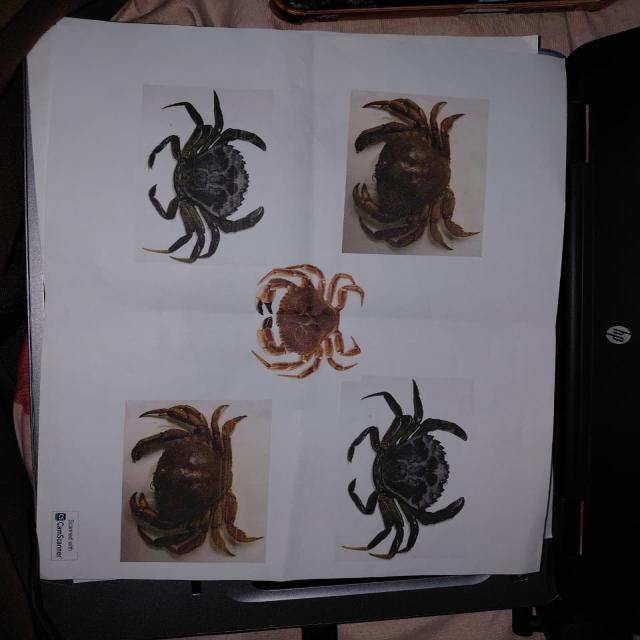egc: (323, 376, 505, 566), (128, 67, 282, 274)
